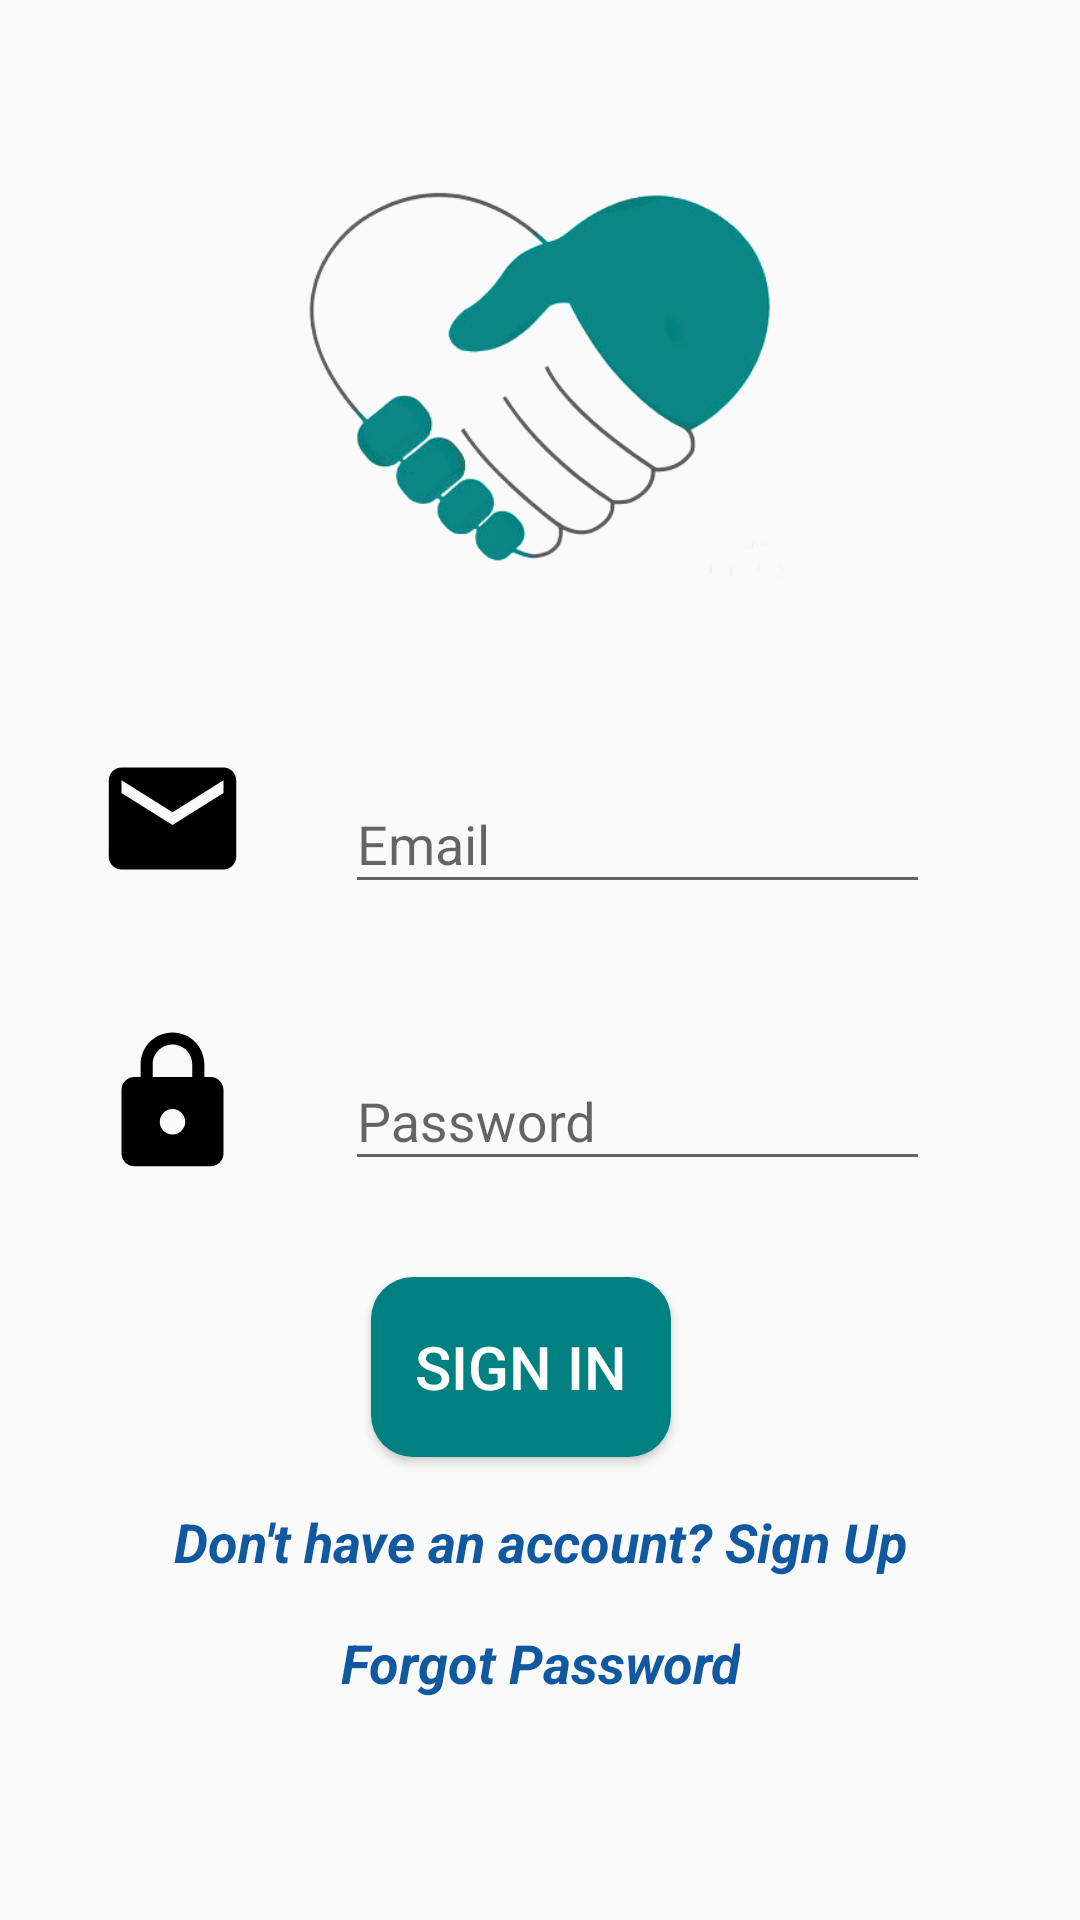

Icon bounding boxes for this 1080x1920 phone screenshot, format Rect(x1, y1, x2, y2):
lock: Rect(121, 1032, 224, 1167)
